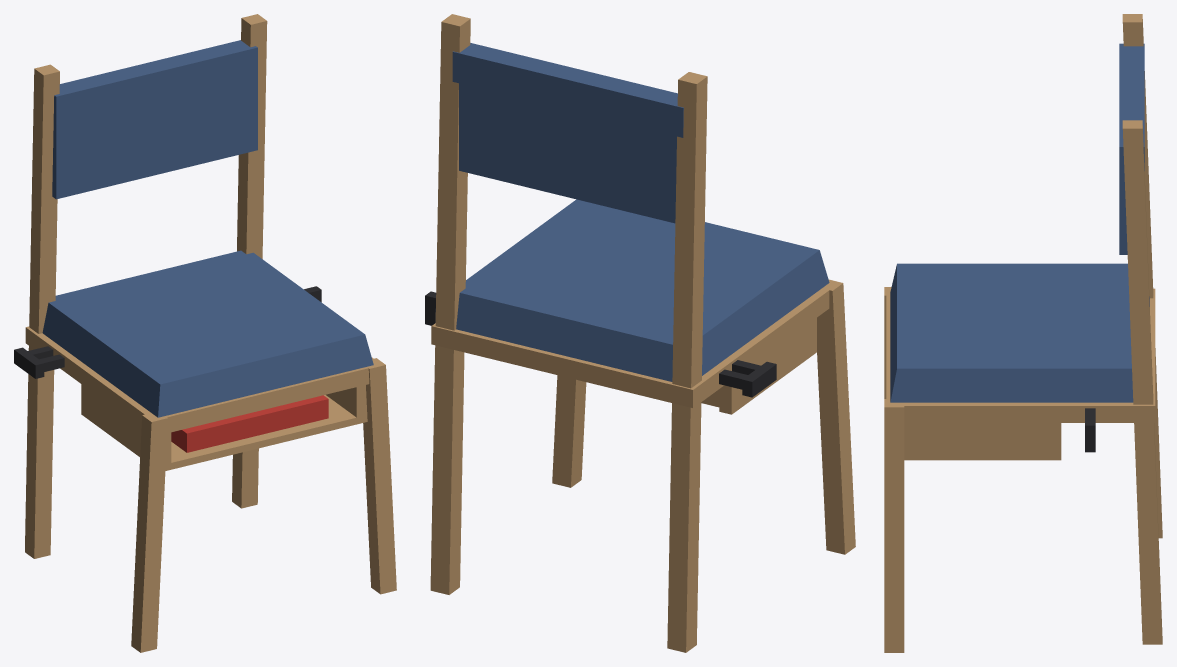
The model's file is FN_Chair_Chapel.glb.
3 views of the same model, side by side, from view 1: azimuth 30°, elevation 25°; view 2: azimuth 150°, elevation 25°; view 3: azimuth 270°, elevation 25° (orthographic). The views are drawn at different scales.
Parts seen in each view (by area): view 1: FN_Chair_Chapel; view 2: FN_Chair_Chapel; view 3: FN_Chair_Chapel.
Boxes of the visible parts, box(x1,y1,x2,y2) form: FN_Chair_Chapel: box(14, 14, 396, 652); FN_Chair_Chapel: box(425, 14, 855, 652); FN_Chair_Chapel: box(884, 14, 1162, 652).
Size of the model in its own units: 0.54 by 0.86 by 0.42.
1 material, 1 textured.
